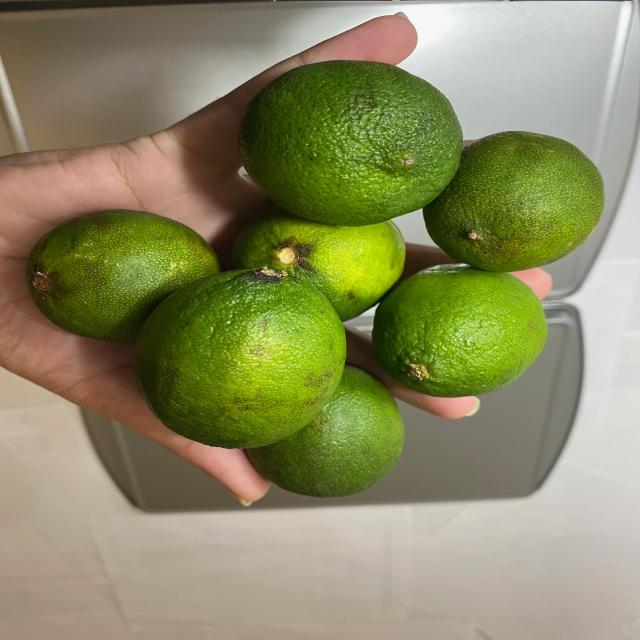lemon: (26, 57, 611, 495)
